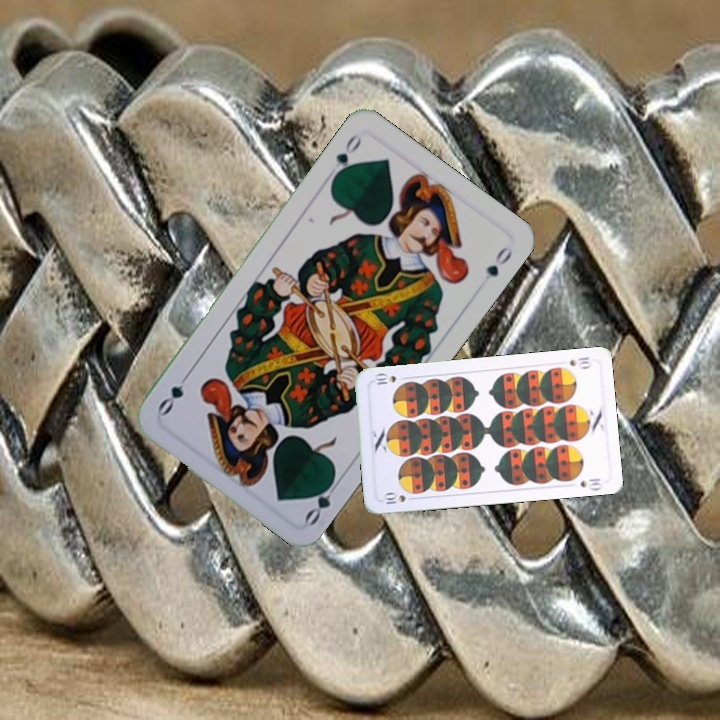GO: (300, 472, 344, 528), (328, 130, 364, 184)
S10: (378, 489, 419, 507), (565, 353, 594, 371)
